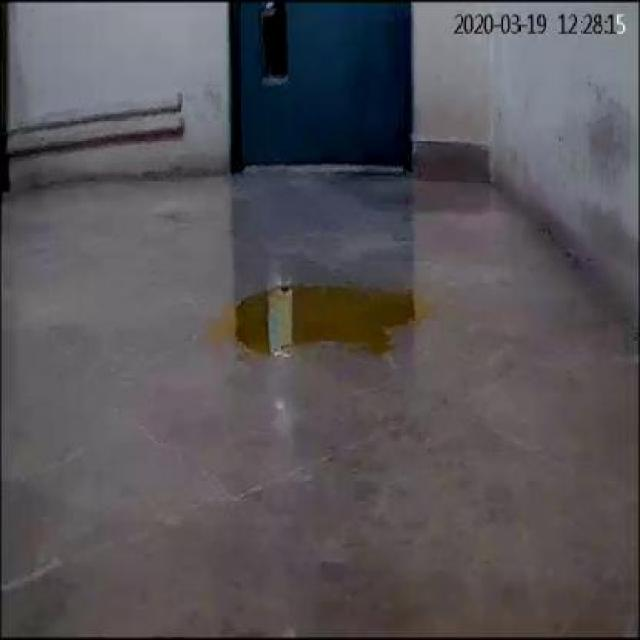spill: (198, 278, 438, 360)
